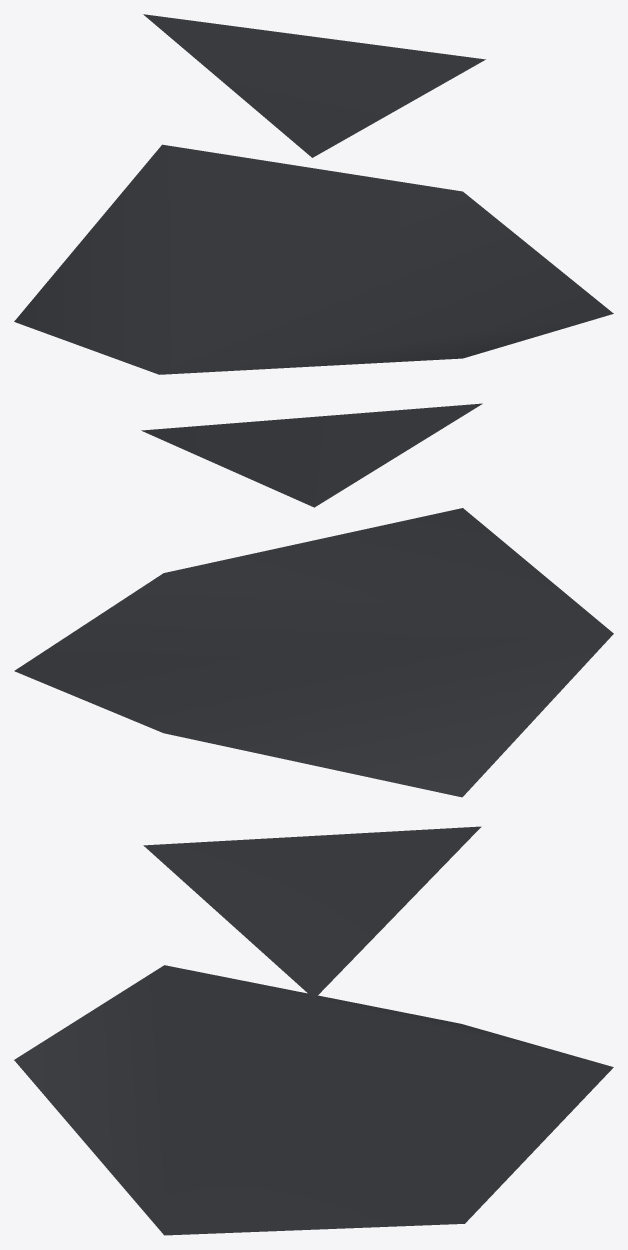
Rendered from SM_Prop_Candle_Stand_01_Particle.fbx.
3 views of the same model, one above another, from view 1: azimuth 30°, elevation 25°; view 2: azimuth 150°, elevation 25°; view 3: azimuth 270°, elevation 25° (orthographic).
Visible parts, largest first — view 1: SM_Prop_Candle_Stand_01_Particle; view 2: SM_Prop_Candle_Stand_01_Particle; view 3: SM_Prop_Candle_Stand_01_Particle.
Boxes of the visible parts, bbox=[...] form: SM_Prop_Candle_Stand_01_Particle: bbox=[14, 14, 613, 374]; SM_Prop_Candle_Stand_01_Particle: bbox=[14, 403, 613, 797]; SM_Prop_Candle_Stand_01_Particle: bbox=[14, 826, 613, 1235].
Size of the model in its own units: 0.5811 by 0.3251 by 0.6675.
